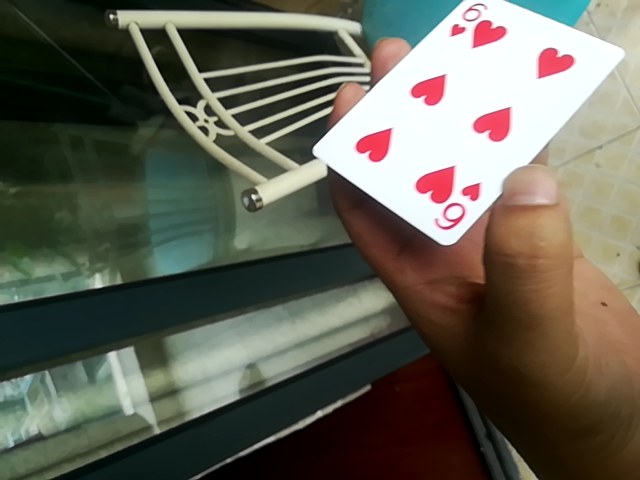hx 6: (305, 3, 623, 245)
